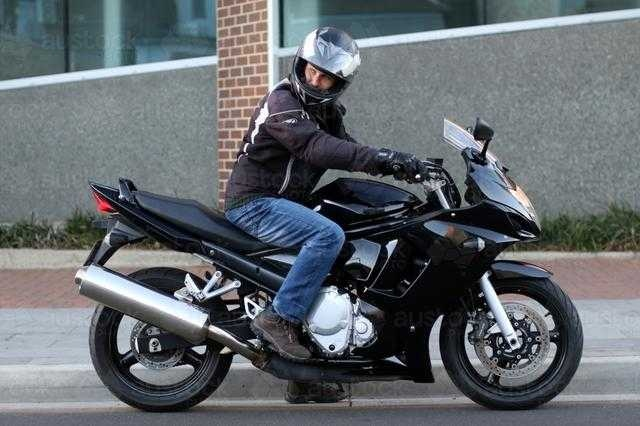motorcycle: (76, 117, 586, 416)
